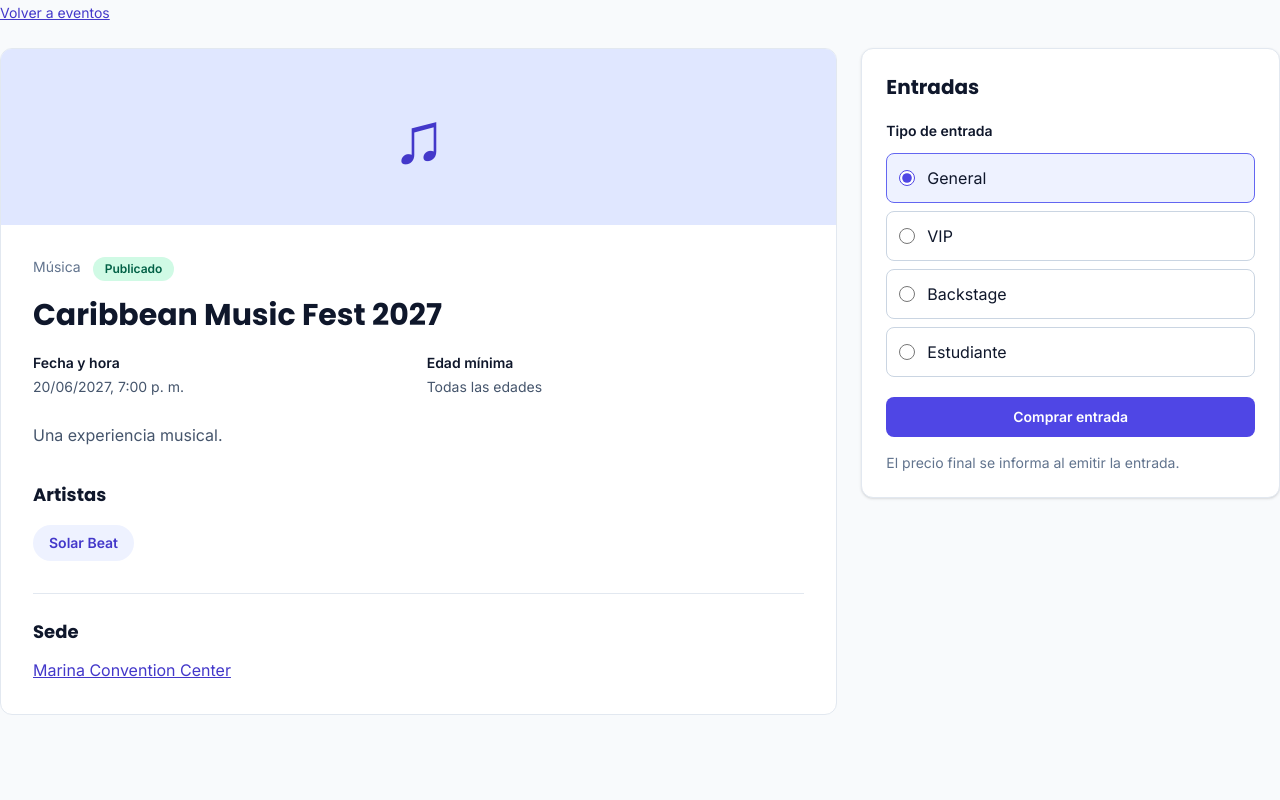
Scenario: compra 409 mantiene abierto el diálogo
This screenshot has width=1280, height=800.
Step 1. Click the button "Comprar entrada" → (1071,417), box [886,397,1255,437]
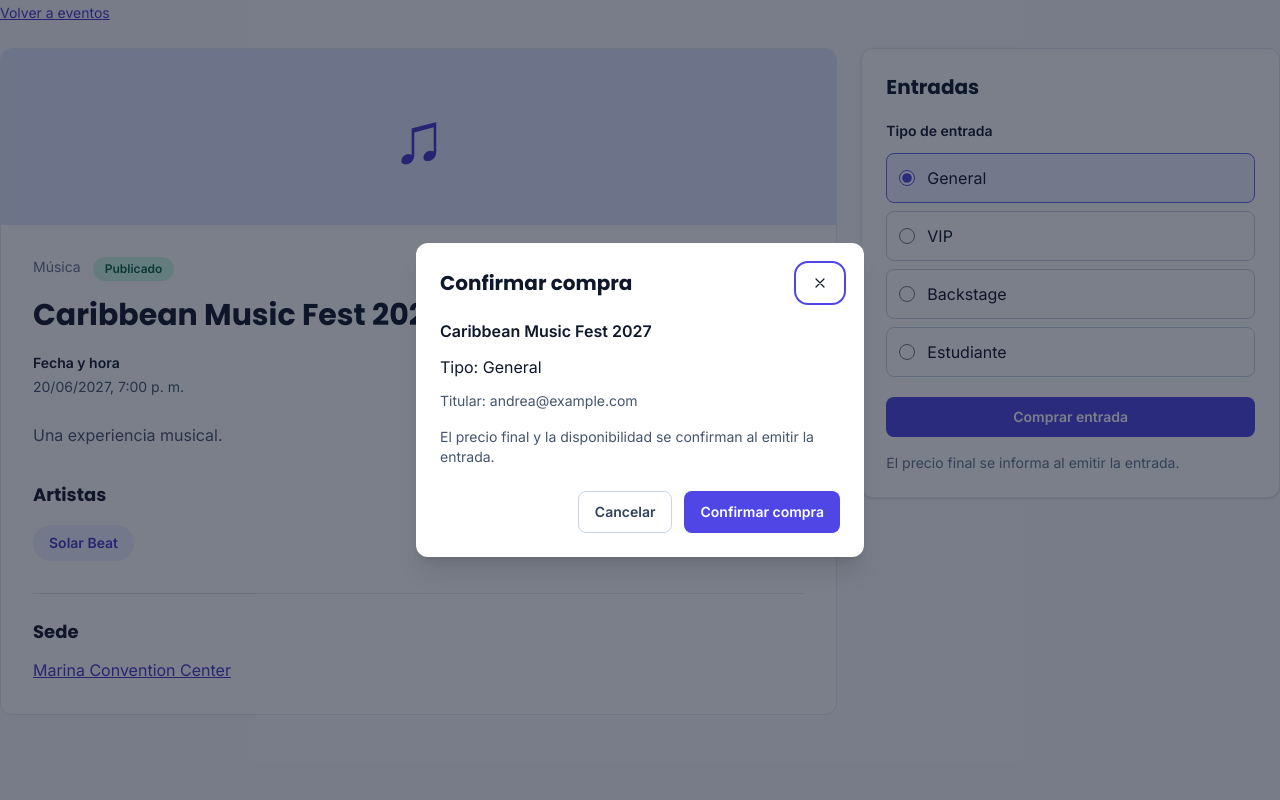
Step 2. Click the button "Confirmar compra" → (762,512), box [684,491,840,533]
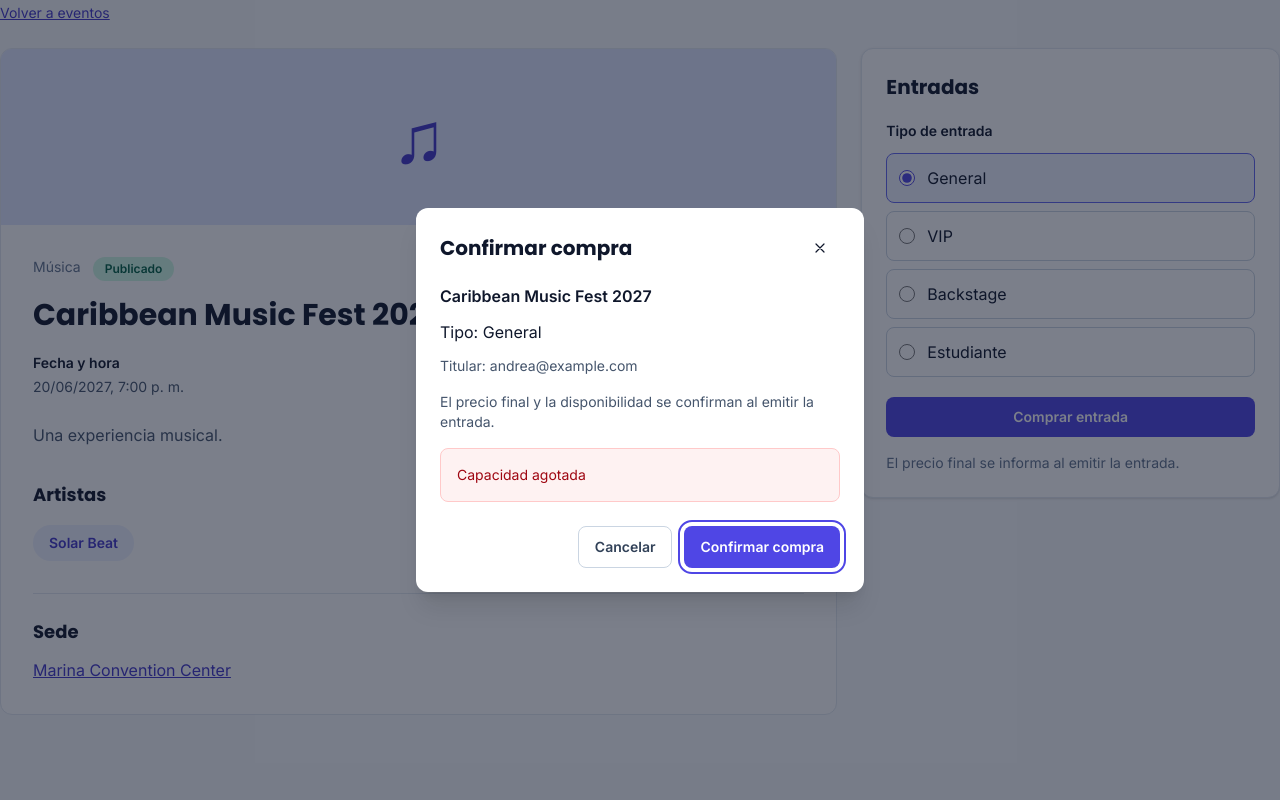
Expected: the dialog is shown, [416,208,864,592]
Expected: the text "Capacidad agotada" is shown, [440,448,840,502]
